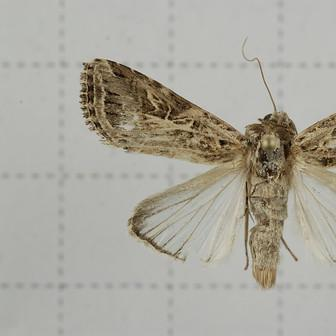Spodoptera litura: (79, 36, 336, 290)
